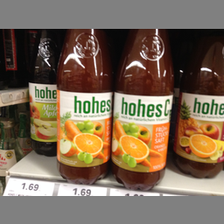juice: (111, 30, 176, 194), (56, 30, 112, 186), (174, 29, 224, 179), (27, 30, 59, 155)
